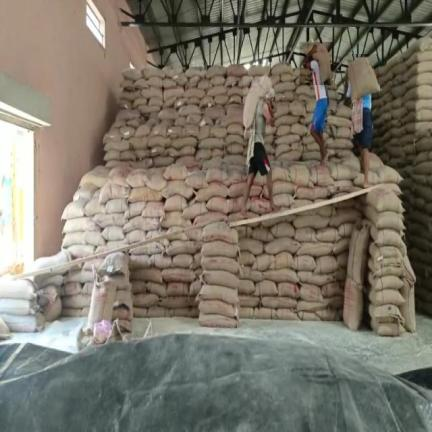Zone-Counting: (241, 76, 278, 217), (345, 57, 379, 186), (303, 43, 331, 162)
